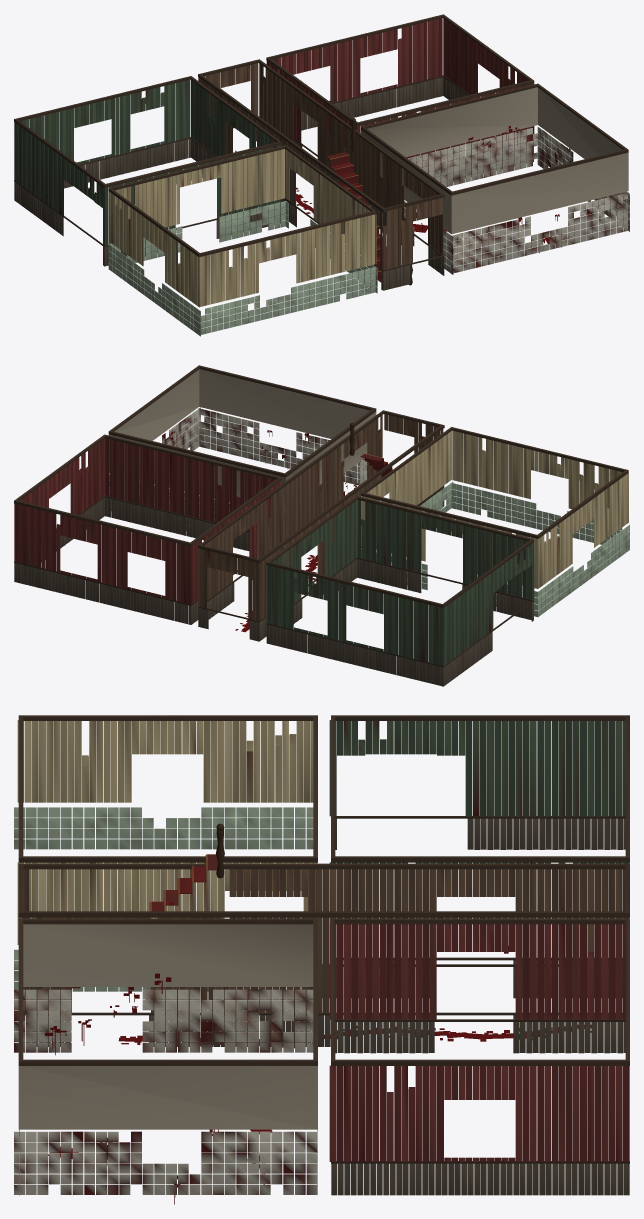
The model's file is FarmhouseInteriorGround.glb.
3 views of the same model, one above another, from view 1: azimuth 30°, elevation 25°; view 2: azimuth 150°, elevation 25°; view 3: azimuth 270°, elevation 25° (orthographic). The views are drawn at different scales.
Visible parts, largest first — view 1: FarmhouseInteriorGround_plaster_raw, FarmhouseInteriorGround_trim, FarmhouseInteriorGround_paper_kitchenA, FarmhouseInteriorGround_tile, FarmhouseInteriorGround_paper_kitchenB, FarmhouseInteriorGround_tile_kitchen, FarmhouseInteriorGround_paper_livingA, FarmhouseInteriorGround_wood_old, FarmhouseInteriorGround_paper_livingB, FarmhouseInteriorGround_paper_hallA, FarmhouseInteriorGround_paper_hallB, FarmhouseInteriorGround_paper_diningA (+3 smaller); view 2: FarmhouseInteriorGround_wood_old, FarmhouseInteriorGround_trim, FarmhouseInteriorGround_paper_livingA, FarmhouseInteriorGround_paper_livingB, FarmhouseInteriorGround_paper_diningB, FarmhouseInteriorGround_paper_diningA, FarmhouseInteriorGround_plaster_raw, FarmhouseInteriorGround_paper_kitchenB, FarmhouseInteriorGround_paper_kitchenA, FarmhouseInteriorGround_paper_hallA, FarmhouseInteriorGround_paper_hallB, FarmhouseInteriorGround_tile_kitchen (+2 smaller); view 3: FarmhouseInteriorGround_plaster_raw, FarmhouseInteriorGround_trim, FarmhouseInteriorGround_tile, FarmhouseInteriorGround_wood_old, FarmhouseInteriorGround_paper_diningB, FarmhouseInteriorGround_paper_diningA, FarmhouseInteriorGround_paper_kitchenB, FarmhouseInteriorGround_paper_kitchenA, FarmhouseInteriorGround_tile_kitchen, FarmhouseInteriorGround_paper_livingA, FarmhouseInteriorGround_paper_livingB, FarmhouseInteriorGround_paper_hallA (+3 smaller).
Part boxes in pixels (left/top/right/bottom): FarmhouseInteriorGround_plaster_raw: left=361, top=87, right=628, bottom=234; FarmhouseInteriorGround_trim: left=14, top=14, right=628, bottom=271; FarmhouseInteriorGround_paper_kitchenA: left=108, top=149, right=374, bottom=306; FarmhouseInteriorGround_tile: left=404, top=127, right=629, bottom=274; FarmhouseInteriorGround_paper_kitchenB: left=111, top=150, right=376, bottom=307; FarmhouseInteriorGround_tile_kitchen: left=108, top=201, right=377, bottom=336; FarmhouseInteriorGround_paper_livingA: left=14, top=80, right=280, bottom=245; FarmhouseInteriorGround_wood_old: left=14, top=77, right=533, bottom=290; FarmhouseInteriorGround_paper_livingB: left=16, top=80, right=281, bottom=246; FarmhouseInteriorGround_paper_hallA: left=198, top=63, right=443, bottom=270; FarmhouseInteriorGround_paper_hallB: left=200, top=63, right=442, bottom=269; FarmhouseInteriorGround_paper_diningA: left=266, top=18, right=532, bottom=166; FarmhouseInteriorGround_wood_old: left=14, top=475, right=533, bottom=686; FarmhouseInteriorGround_trim: left=14, top=365, right=628, bottom=667; FarmhouseInteriorGround_paper_livingA: left=266, top=500, right=533, bottom=666; FarmhouseInteriorGround_paper_livingB: left=271, top=500, right=534, bottom=665; FarmhouseInteriorGround_paper_diningB: left=19, top=438, right=281, bottom=603; FarmhouseInteriorGround_paper_diningA: left=14, top=438, right=281, bottom=604; FarmhouseInteriorGround_plaster_raw: left=108, top=369, right=376, bottom=510; FarmhouseInteriorGround_paper_kitchenB: left=366, top=431, right=628, bottom=587; FarmhouseInteriorGround_paper_kitchenA: left=361, top=430, right=628, bottom=588; FarmhouseInteriorGround_paper_hallA: left=198, top=415, right=444, bottom=621; FarmhouseInteriorGround_paper_hallB: left=199, top=414, right=440, bottom=620; FarmhouseInteriorGround_tile_kitchen: left=361, top=482, right=629, bottom=616; FarmhouseInteriorGround_plaster_raw: left=18, top=924, right=317, bottom=1129; FarmhouseInteriorGround_trim: left=18, top=715, right=629, bottom=1163; FarmhouseInteriorGround_tile: left=14, top=989, right=317, bottom=1195; FarmhouseInteriorGround_wood_old: left=23, top=818, right=629, bottom=1195; FarmhouseInteriorGround_paper_diningB: left=329, top=923, right=622, bottom=1161; FarmhouseInteriorGround_paper_diningA: left=337, top=924, right=629, bottom=1161; FarmhouseInteriorGround_paper_kitchenB: left=17, top=720, right=310, bottom=944; FarmhouseInteriorGround_paper_kitchenA: left=25, top=721, right=317, bottom=918; FarmhouseInteriorGround_tile_kitchen: left=14, top=807, right=313, bottom=991; FarmhouseInteriorGround_paper_livingA: left=337, top=721, right=629, bottom=863; FarmhouseInteriorGround_paper_livingB: left=329, top=720, right=622, bottom=863; FarmhouseInteriorGround_paper_hallA: left=22, top=869, right=629, bottom=1013.
Size of the model in its own units: 63.07 by 17.69 by 47.37.
